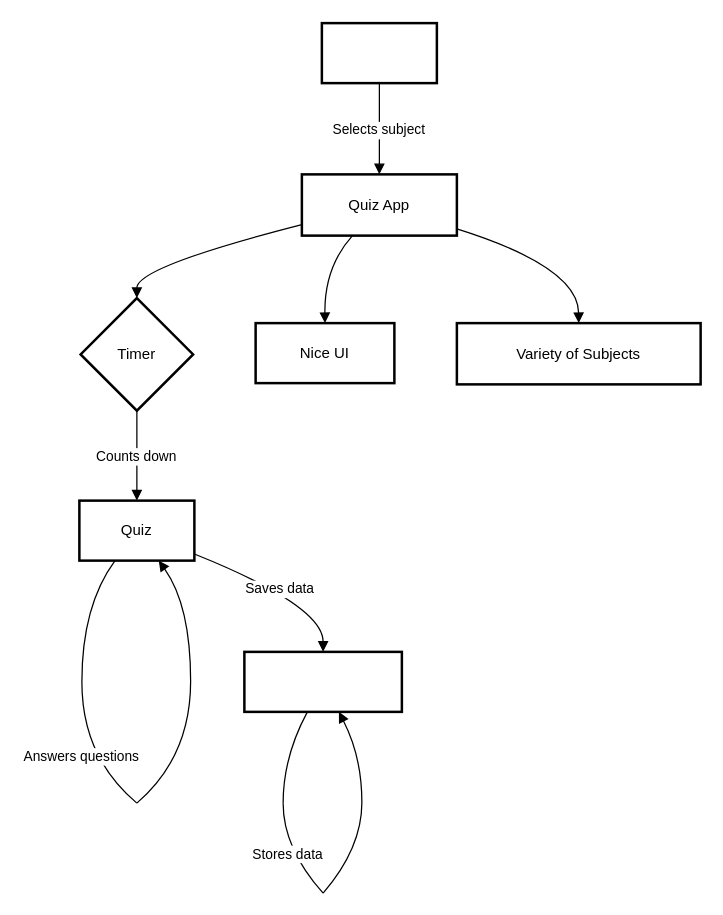
Image size: 723x915. Some labels were removed from this diagram. Here are the shapes that lost their labels. From the top down, the box of each, then its label:
(320, 21, 438, 84): User
(242, 650, 402, 712): Database
